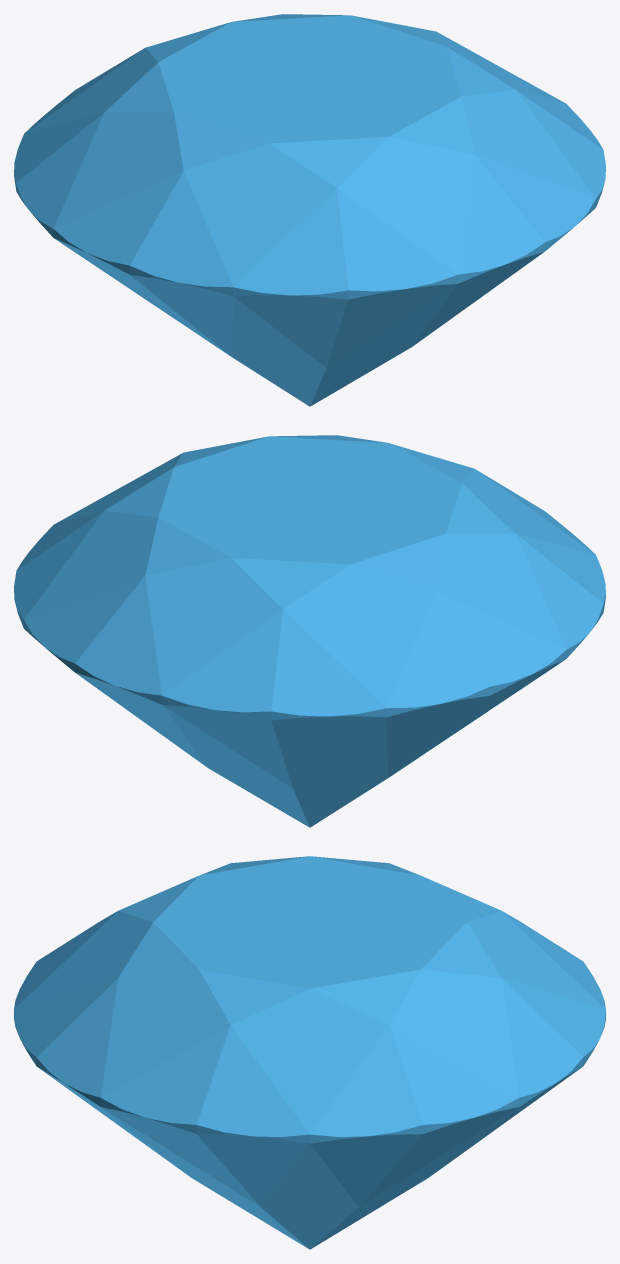
File: Diamond_whole.fbx
3 views of the same model, one above another, from view 1: azimuth 30°, elevation 25°; view 2: azimuth 150°, elevation 25°; view 3: azimuth 270°, elevation 25° (orthographic).
Visible parts, largest first — view 1: Diamond_whole; view 2: Diamond_whole; view 3: Diamond_whole.
Boxes of the visible parts, x1,y1,x2,y2 form: Diamond_whole: (14,14,605,406); Diamond_whole: (14,435,605,827); Diamond_whole: (14,856,605,1249).
Size of the model in its own units: 900 by 549 by 900.
